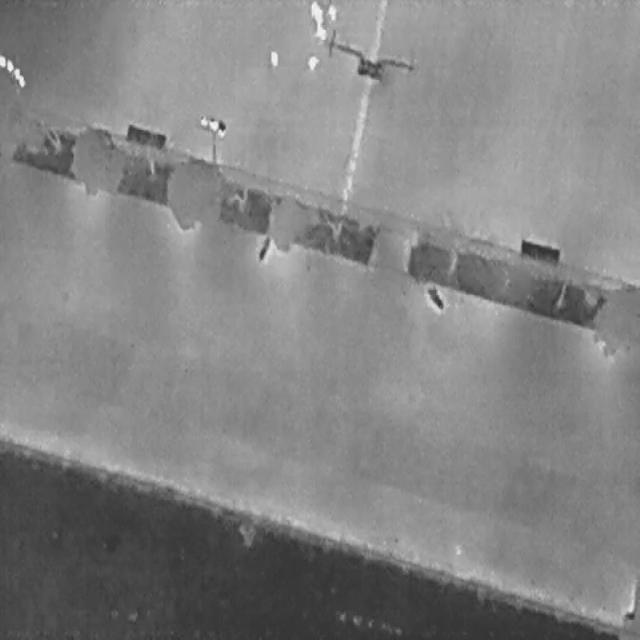Person: (306, 55, 319, 70), (313, 26, 327, 39), (314, 6, 323, 25), (269, 50, 278, 68), (327, 2, 336, 20), (310, 0, 318, 18)
